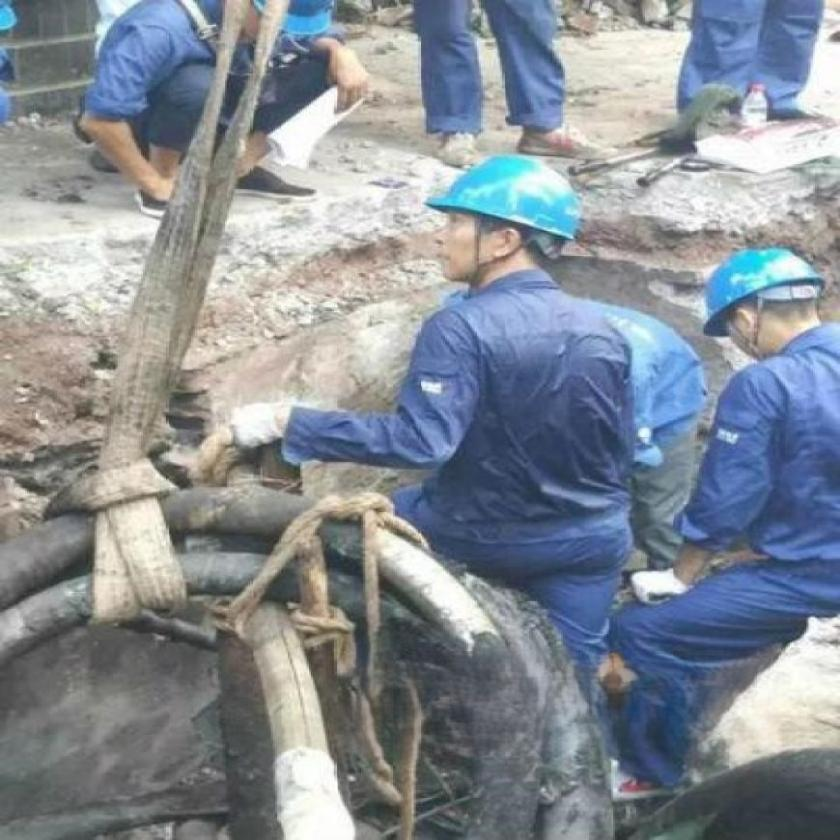Con_casco: (432, 149, 575, 301), (703, 246, 830, 356)
